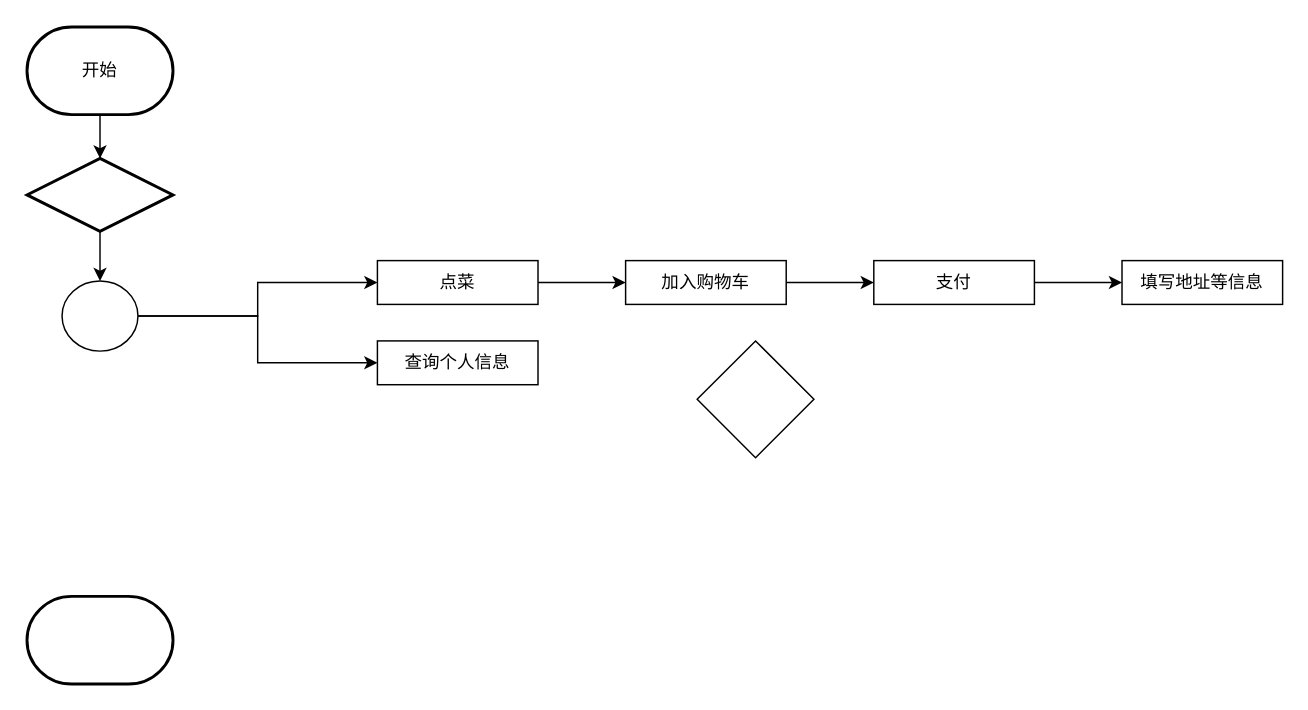
Image size: 1308x710. Some labels were removed from this diagram. The shapes that lost their labels are listed below. From the top down, each one's centre as x and y in pixels, then its label:
At point (99, 194): "手机号登录".
At point (99, 315): "前端主页".
At point (755, 398): "是否支付".
